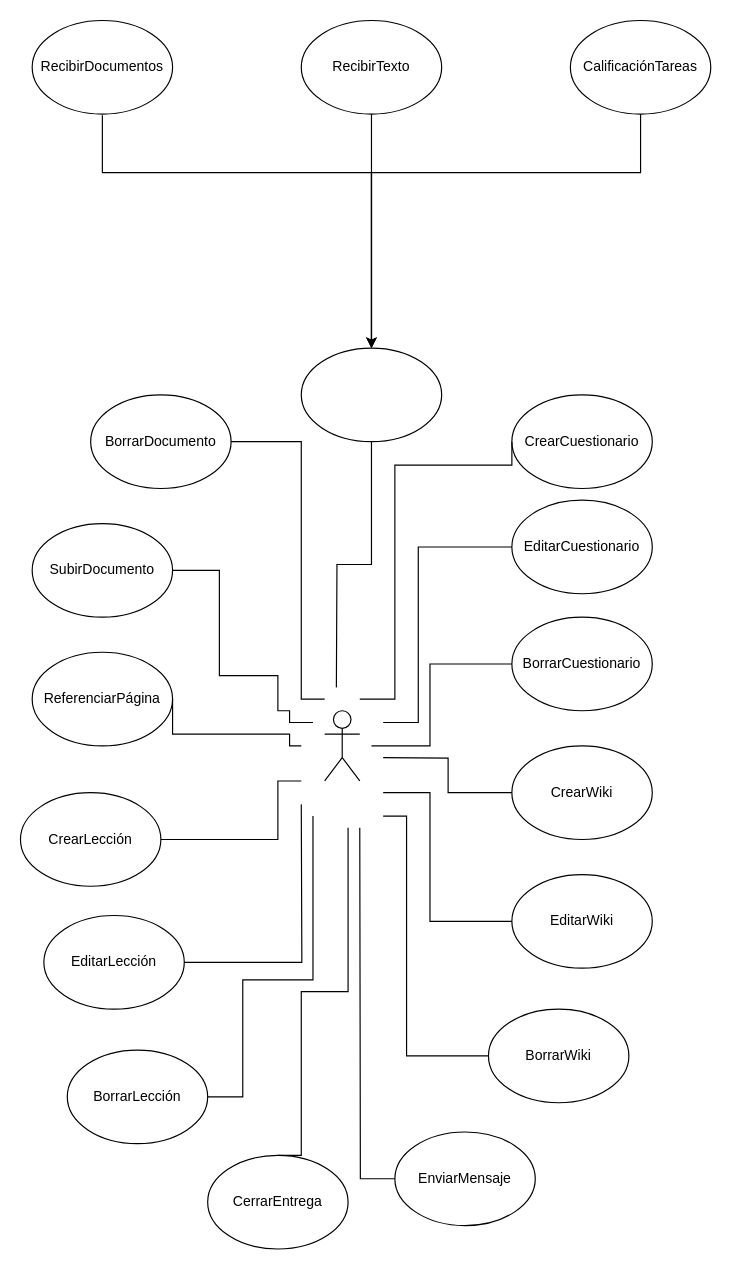
This 731x1269 diagram has some shape labels left out. Here are the shapes that lost their labels. From the top down, the centre of each, then its label:
point (371, 394): CrearEntrega
point (342, 745): Profesor
